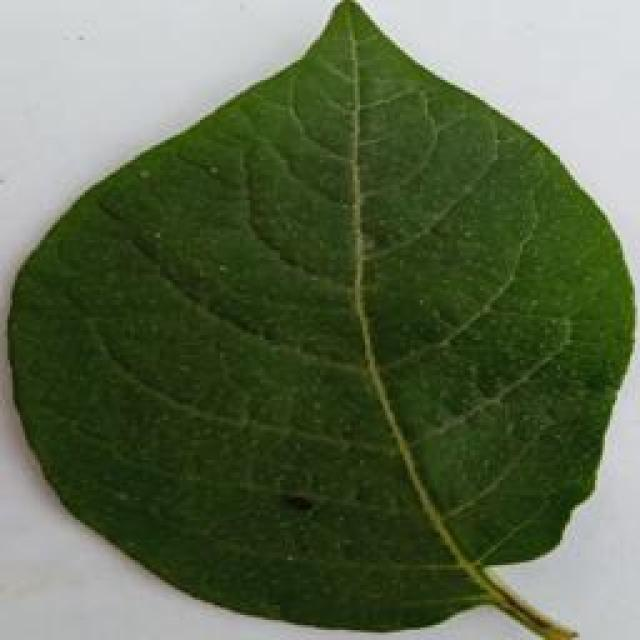Potato_Healthy: (1, 4, 632, 625)
